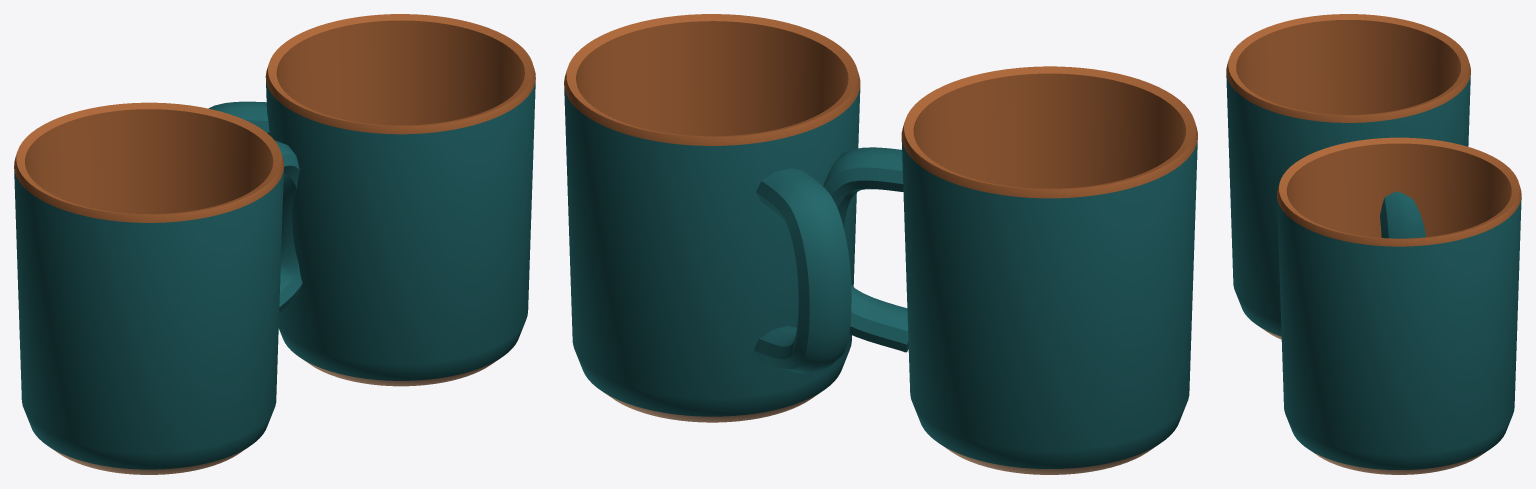
The model's file is mugs.glb.
3 renders of one model, left to right at view 1: azimuth 30°, elevation 25°; view 2: azimuth 150°, elevation 25°; view 3: azimuth 270°, elevation 25°, orthographic. The views are drawn at different scales.
Visible parts, largest first — view 1: Teal Stoneware Coffee Mugs; view 2: Teal Stoneware Coffee Mugs; view 3: Teal Stoneware Coffee Mugs.
Boxes of the visible parts, x1=… form: Teal Stoneware Coffee Mugs: x1=14, y1=14, x2=535, y2=474; Teal Stoneware Coffee Mugs: x1=564, y1=14, x2=1197, y2=474; Teal Stoneware Coffee Mugs: x1=1226, y1=14, x2=1521, y2=474.
Bounding box in the file's own units: 0.191 × 0.0965 × 0.105.
